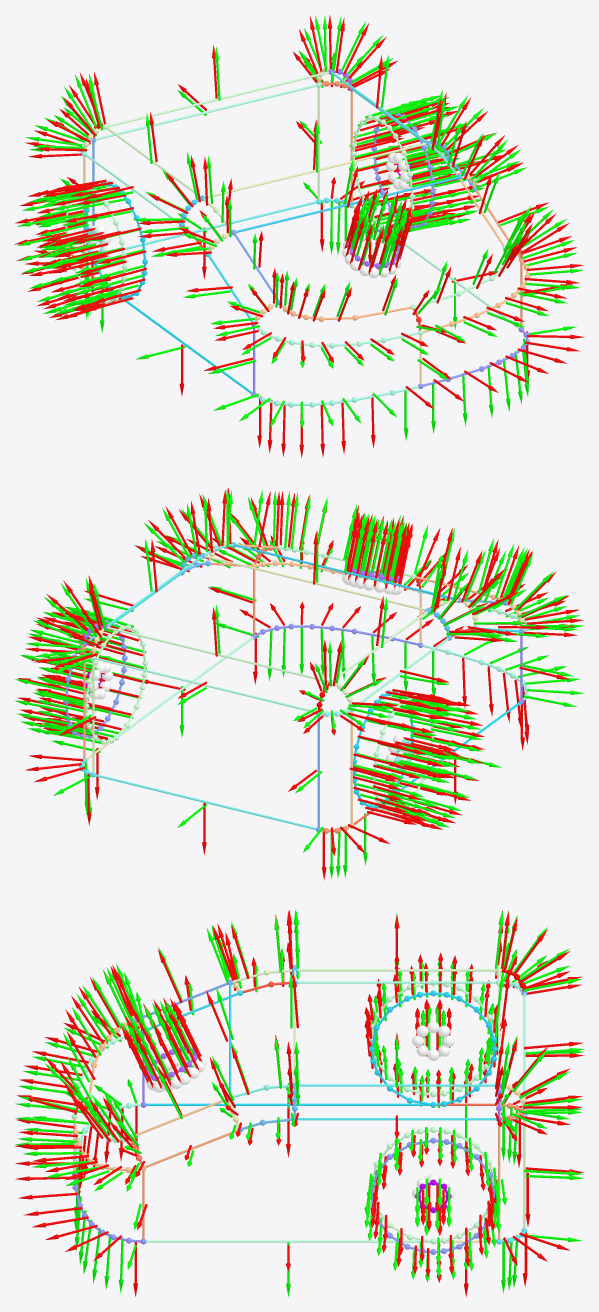
File: onshape_vacuum.gltf
3 renders of one model, top to bottom at view 1: azimuth 30°, elevation 25°; view 2: azimuth 150°, elevation 25°; view 3: azimuth 270°, elevation 25°, orthographic. The views are drawn at different scales.
Size of the model in its own units: 0.8157 by 0.4648 by 0.9426.
